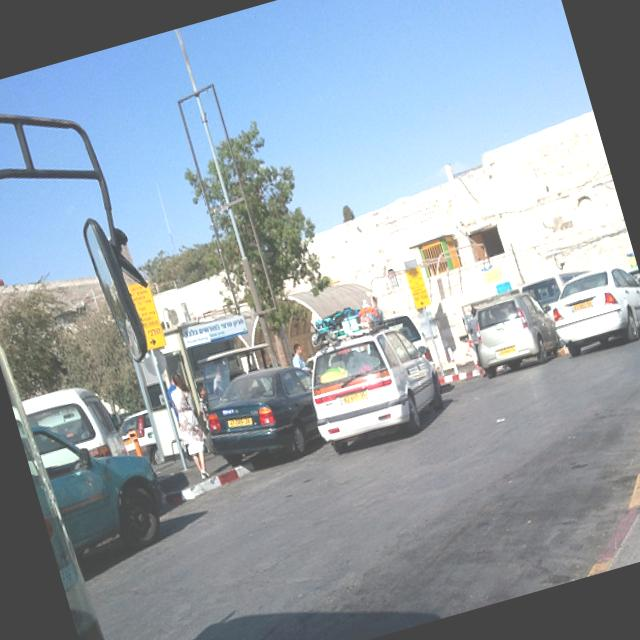Vehicle: (0, 56, 255, 640), (31, 390, 204, 571), (298, 319, 452, 457), (190, 356, 332, 481), (19, 376, 130, 480), (540, 256, 640, 360), (465, 283, 568, 383), (518, 263, 606, 322), (114, 408, 162, 472), (385, 308, 429, 358), (625, 266, 640, 326)
